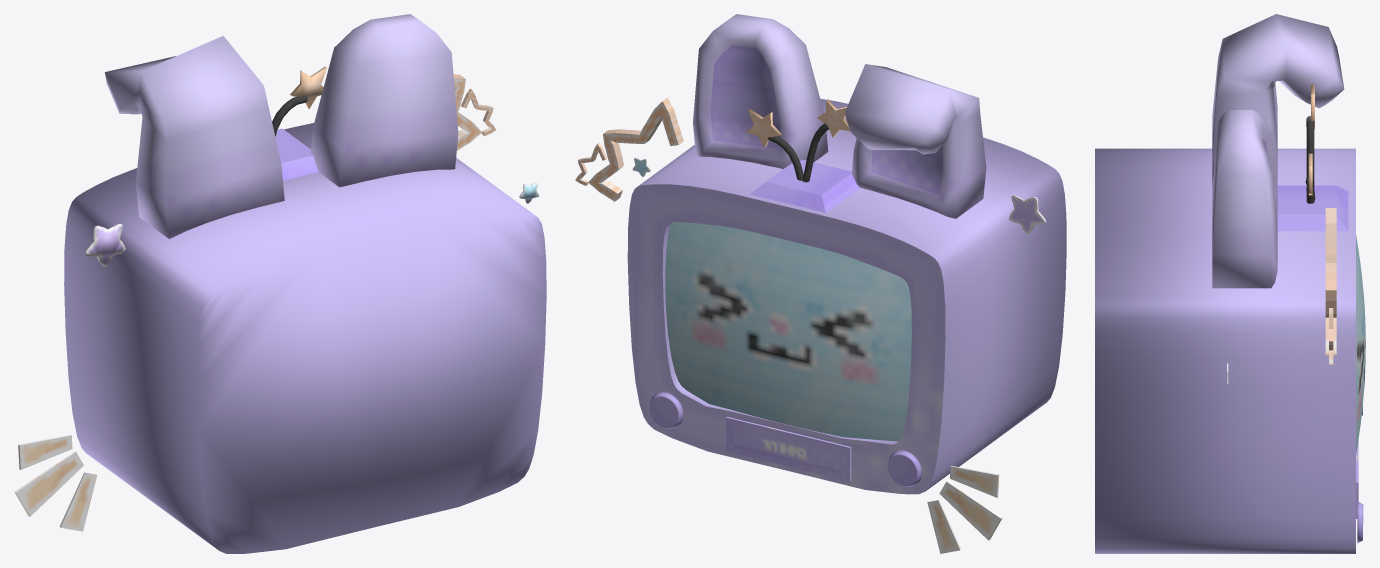
File: Handle2.fbx
The picture shows the model from 3 angles, left to right: view 1: azimuth 30°, elevation 25°; view 2: azimuth 150°, elevation 25°; view 3: azimuth 270°, elevation 25°; orthographic projection. The views are drawn at different scales.
Parts seen in each view (by area): view 1: Handle1; view 2: Handle1; view 3: Handle1.
Part boxes in pixels (x1,y1,x2,y2): Handle1: (14, 14, 546, 553); Handle1: (575, 14, 1066, 553); Handle1: (1095, 14, 1365, 553).
Bounding box in the file's own units: 270 × 266 × 136.
Materials: 1 (1 with a texture image).
